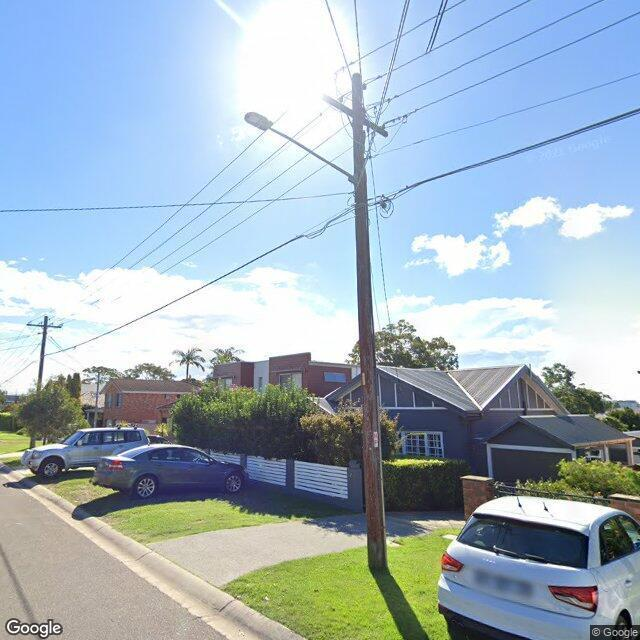crossarm: (320, 94, 391, 139), (26, 324, 62, 328)
streetlight: (352, 71, 387, 571), (243, 110, 358, 186)
timber-pole: (30, 315, 48, 448)
